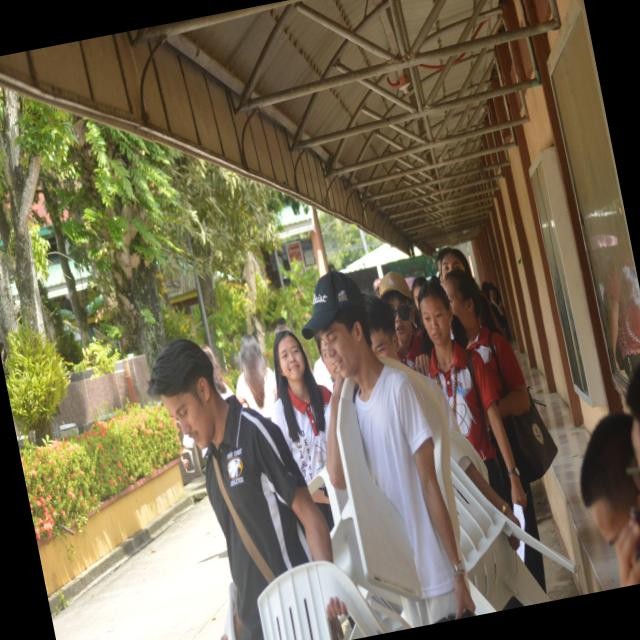person: (303, 271, 475, 627), (148, 339, 333, 639), (418, 283, 527, 508), (444, 269, 530, 430), (272, 331, 331, 483), (580, 413, 639, 544), (379, 272, 429, 375), (459, 457, 518, 523), (236, 335, 277, 418), (314, 335, 336, 391)
